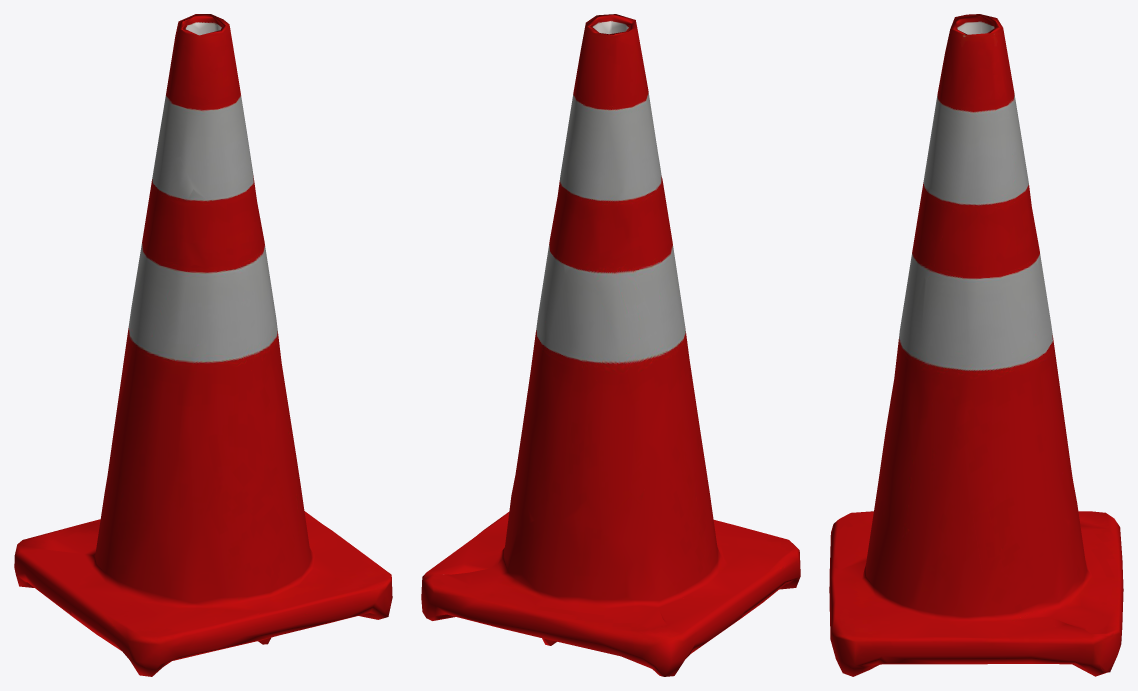
File: traffic_cone_3d_model.fbx
3 views of the same model, side by side, from view 1: azimuth 30°, elevation 25°; view 2: azimuth 150°, elevation 25°; view 3: azimuth 270°, elevation 25° (orthographic). The views are drawn at different scales.
Parts seen in each view (by area): view 1: tripo_node_df0c416b; view 2: tripo_node_df0c416b; view 3: tripo_node_df0c416b.
Boxes of the visible parts, x1,y1,x2,y2 form: tripo_node_df0c416b: (14,14,392,676); tripo_node_df0c416b: (421,14,800,676); tripo_node_df0c416b: (829,14,1123,676).
Size of the model in its own units: 0.4803 by 1 by 0.4507.
